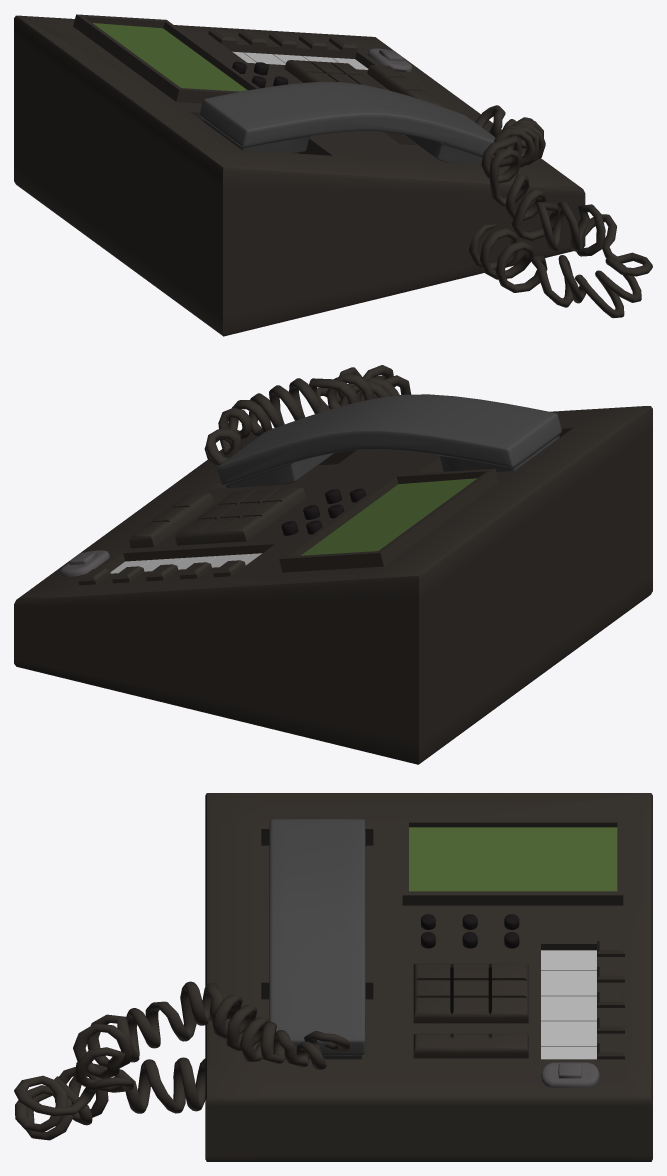
The model's file is phone.fbx.
3 renders of one model, top to bottom at view 1: azimuth 30°, elevation 25°; view 2: azimuth 150°, elevation 25°; view 3: azimuth 270°, elevation 25°, orthographic. The views are drawn at different scales.
Visible parts, largest first — view 1: Cube, Cube.001, Spiral.001, Plane, Plane.001, Plane.002, Cylinder; view 2: Cube, Cube.001, Spiral.001, Plane, Plane.001, Cylinder, Plane.002; view 3: Cube, Cube.001, Spiral.001, Plane, Plane.001, Plane.002, Cylinder.
Boxes of the visible parts, x1,y1,x2,y2 form: Cube: [14, 14, 585, 336]; Cube.001: [199, 81, 495, 164]; Spiral.001: [469, 105, 652, 318]; Plane: [93, 23, 247, 91]; Plane.001: [232, 51, 368, 69]; Plane.002: [367, 48, 412, 72]; Cylinder: [232, 61, 288, 88]; Cube: [14, 406, 652, 764]; Cube.001: [217, 394, 561, 488]; Spiral.001: [204, 365, 411, 465]; Plane: [301, 478, 476, 555]; Plane.001: [110, 553, 261, 573]; Cylinder: [281, 488, 365, 535]; Plane.002: [60, 550, 109, 576]; Cube: [205, 793, 652, 1161]; Cube.001: [269, 819, 365, 1059]; Spiral.001: [14, 981, 349, 1140]; Plane: [409, 827, 617, 891]; Plane.001: [541, 950, 596, 1059]; Plane.002: [540, 1062, 599, 1087]; Cylinder: [421, 914, 519, 948].
Bounding box in the file's own units: 199 × 90.46 × 283.
